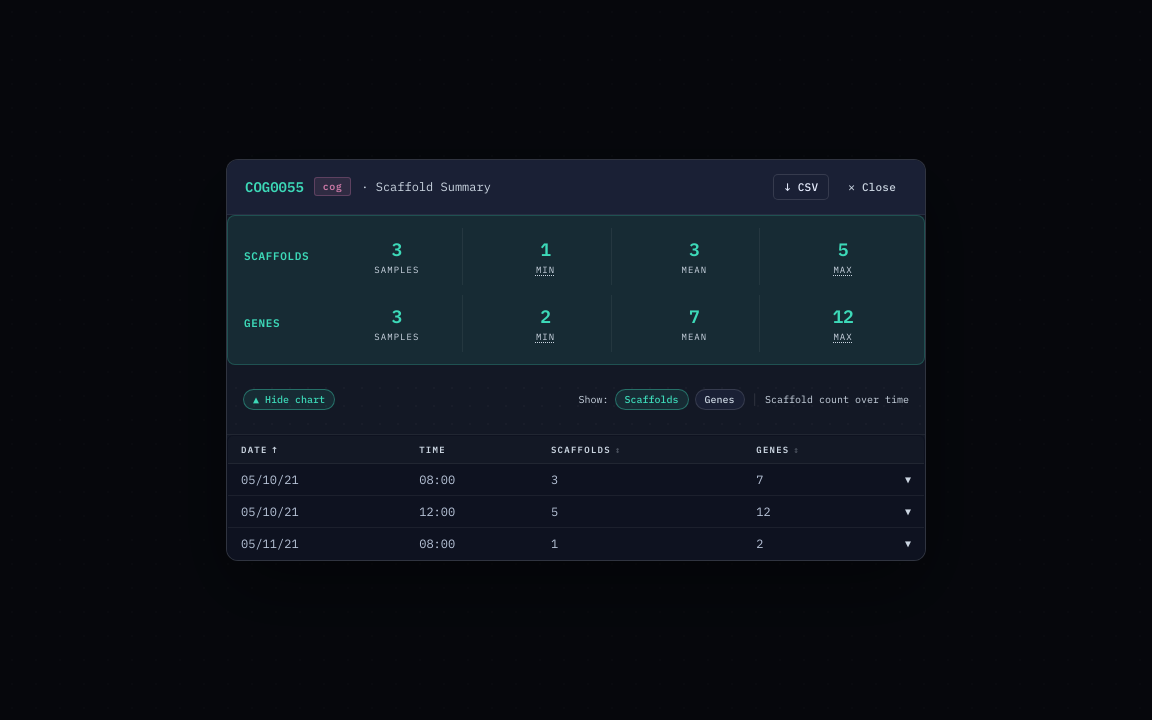
Test: ScaffoldModal — chart controls › Scaffolds button switches back to scaffold_count
Click the button with test id "metric-genes".
click(720, 400)  # box [695,389,745,410]
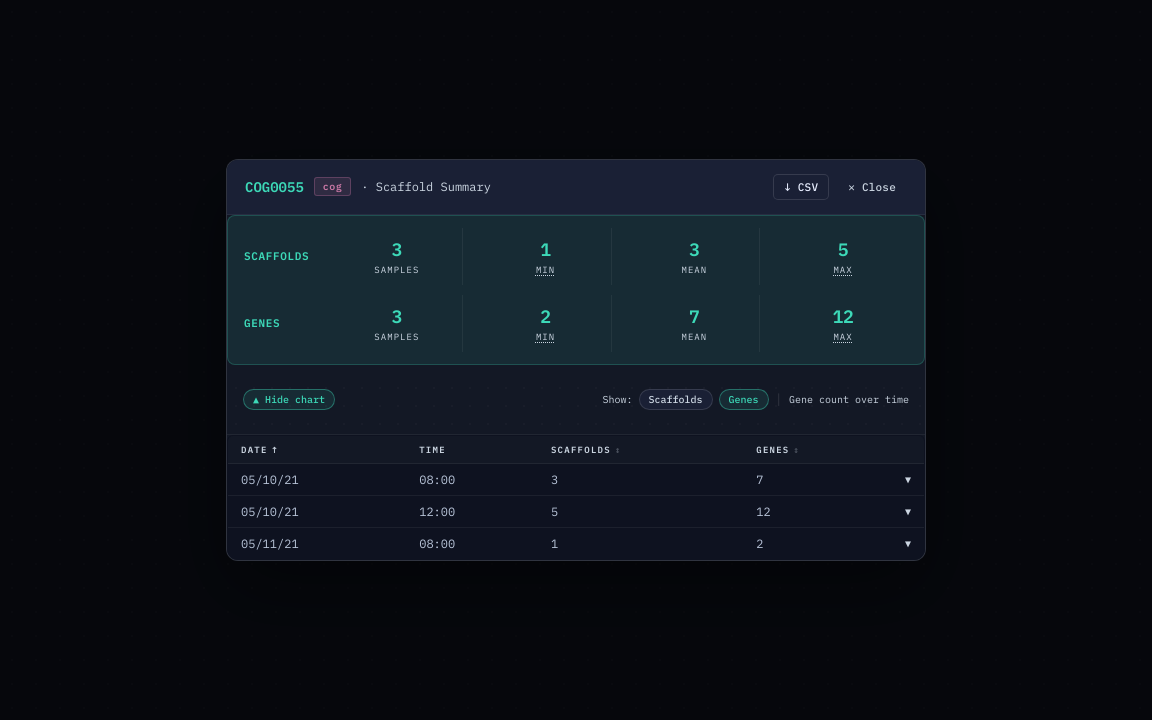
Click the button with test id "metric-scaffolds".
click(676, 400)  # box [639,389,713,410]
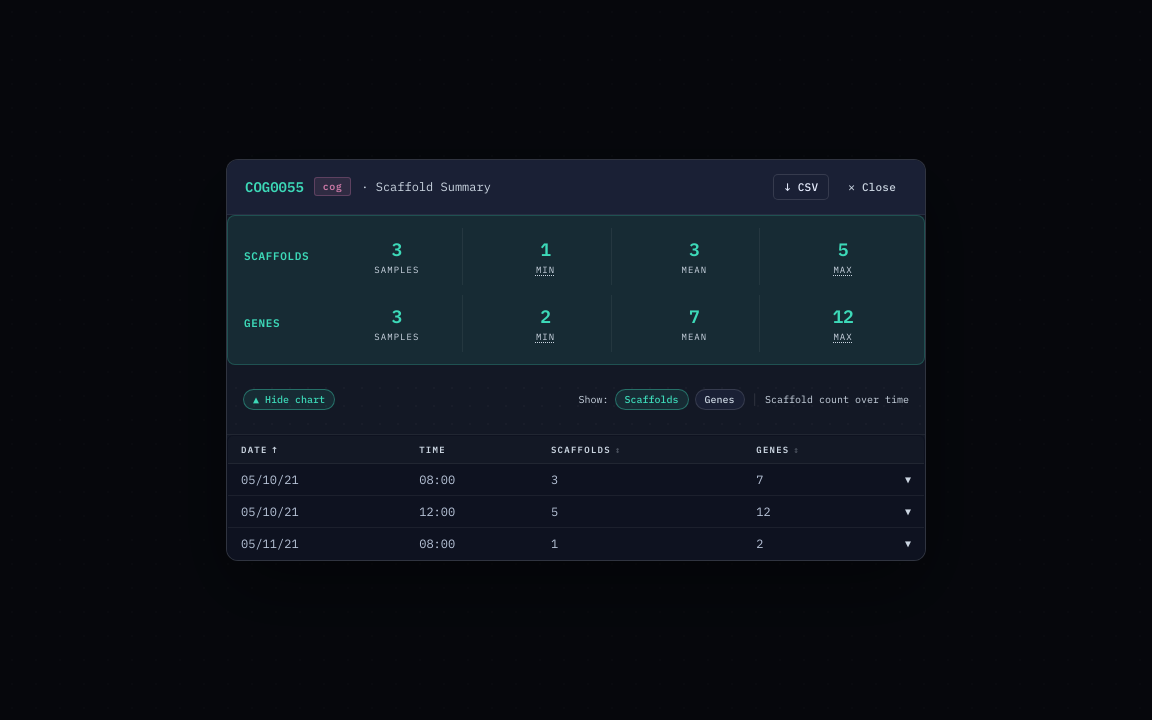
Now the text with test id "chart-metric-label" shows "Scaffold count", box [765,393,909,406]
